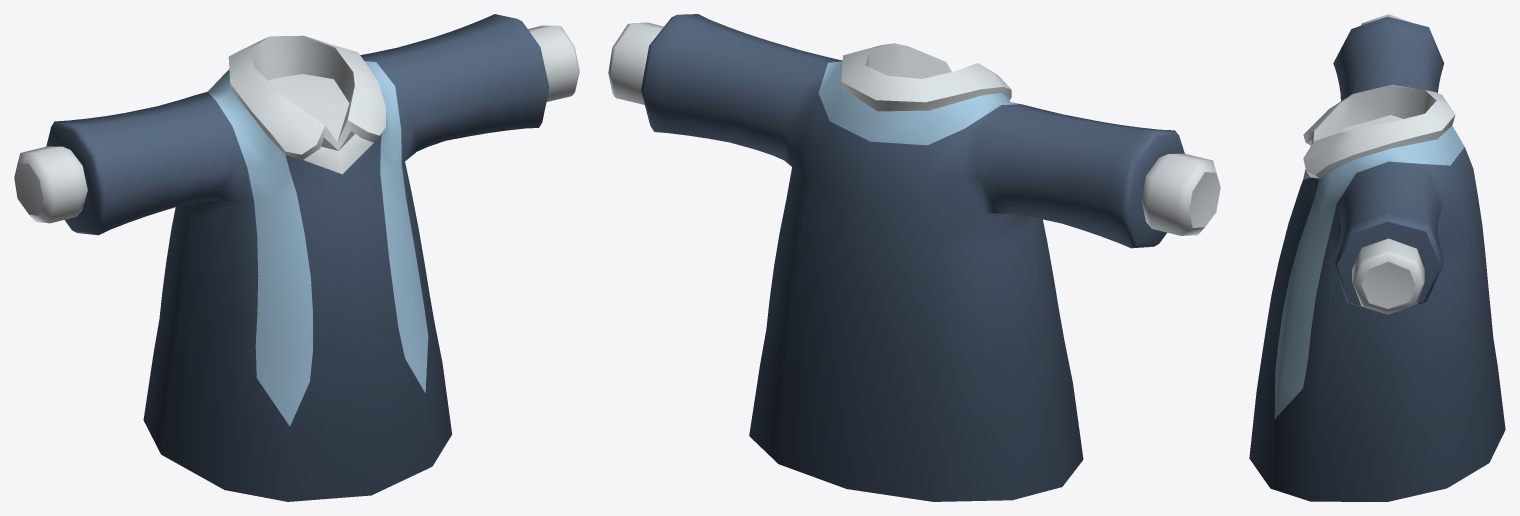
The model's file is Top_50.fbx.
The picture shows the model from 3 angles, left to right: view 1: azimuth 30°, elevation 25°; view 2: azimuth 150°, elevation 25°; view 3: azimuth 270°, elevation 25°; orthographic projection. The views are drawn at different scales.
Parts seen in each view (by area): view 1: Top_50; view 2: Top_50; view 3: Top_50.
Boxes of the visible parts, x1=… form: Top_50: x1=14, y1=14, x2=579, y2=501; Top_50: x1=608, y1=14, x2=1220, y2=501; Top_50: x1=1249, y1=14, x2=1505, y2=501.
Bounding box in the file's own units: 95.83 × 65.89 × 42.75.
